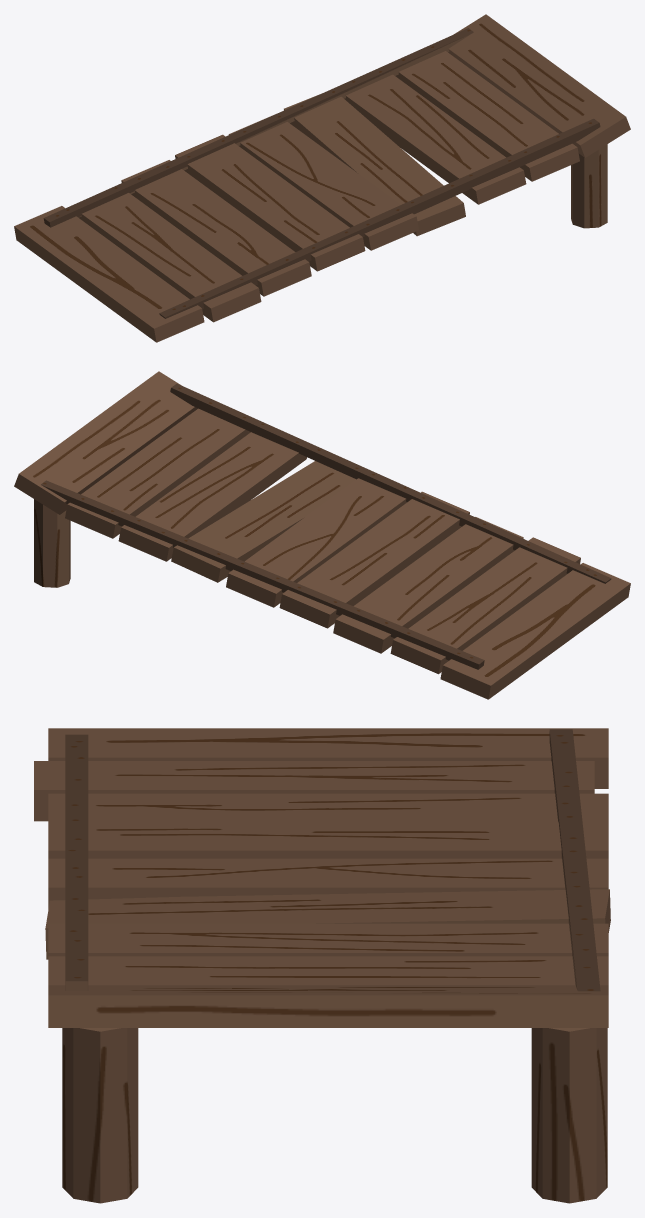
The model's file is PT_ramp_001.FBX.
3 views of the same model, one above another, from view 1: azimuth 30°, elevation 25°; view 2: azimuth 150°, elevation 25°; view 3: azimuth 270°, elevation 25° (orthographic). The views are drawn at different scales.
Visible parts, largest first — view 1: Box157; view 2: Box157; view 3: Box157.
Part boxes in pixels (x1,y1,x2,y2): Box157: (14,14,630,342); Box157: (14,371,630,699); Box157: (34,728,610,1203).
Size of the model in its own units: 53.99 by 12.05 by 28.27.
1 material, 1 textured.
